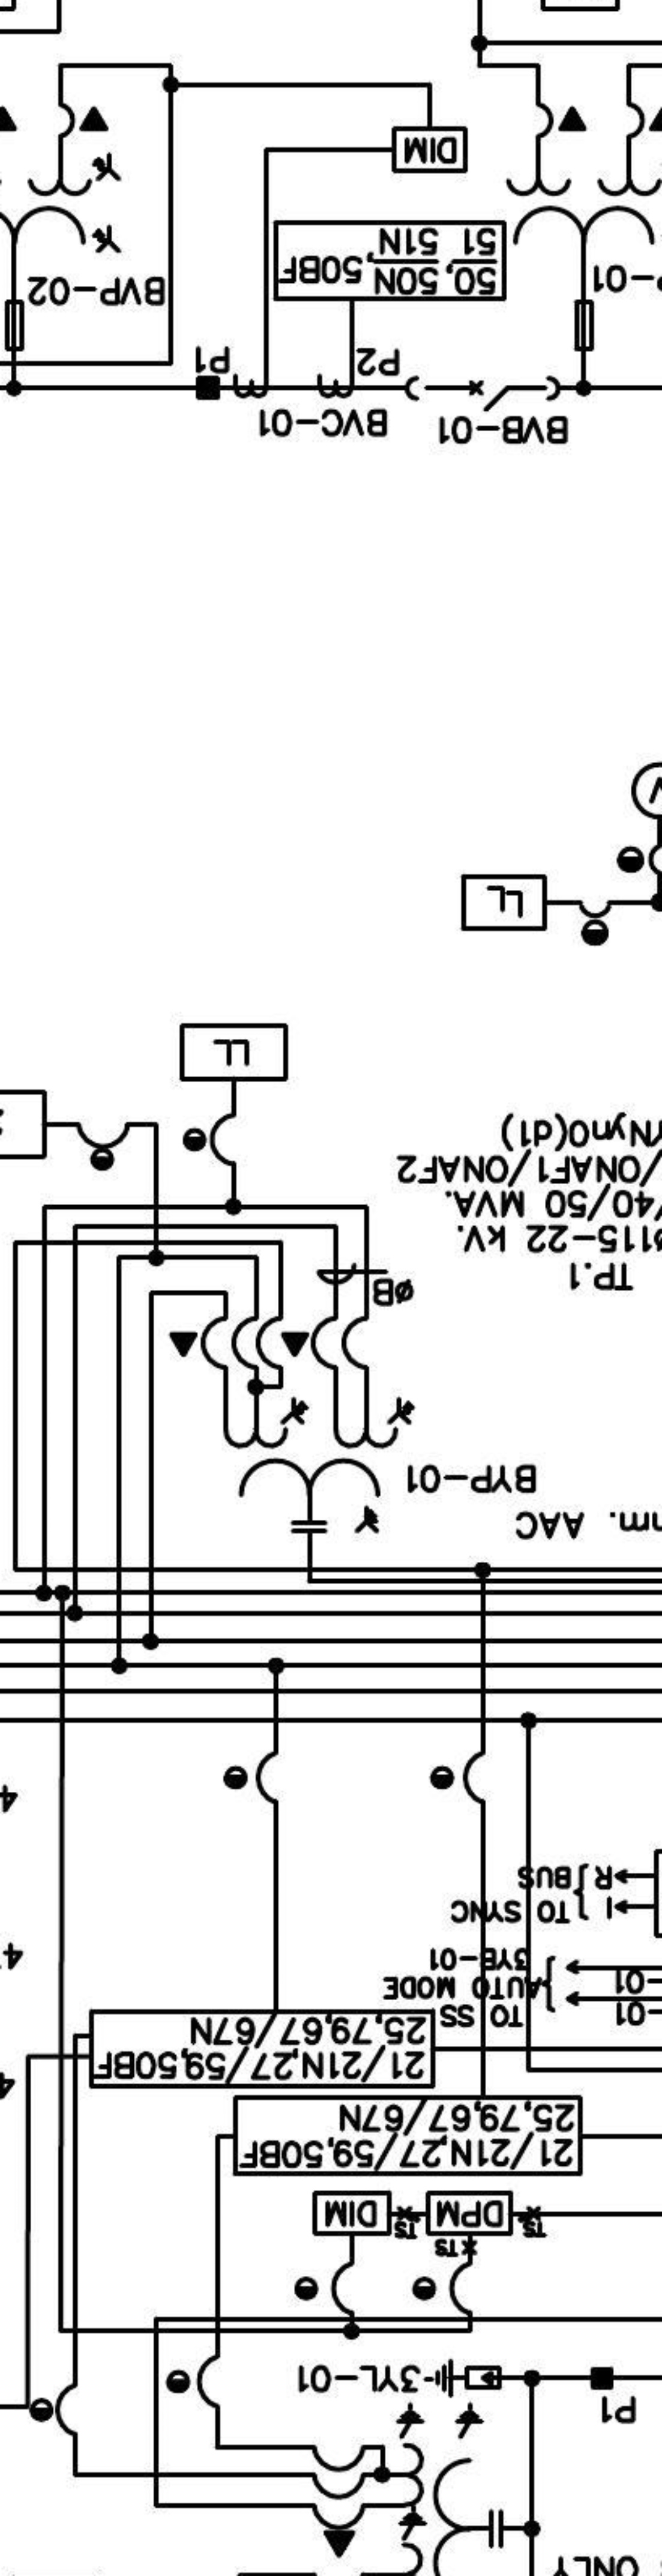115_cvt_3p: (222, 1395, 417, 1534)
115_la: (422, 2357, 503, 2400)
22_breaker: (404, 375, 562, 412)
DIM: (310, 2190, 391, 2238), (391, 126, 468, 174)
DPM: (424, 2190, 513, 2238)
LL: (179, 1022, 287, 1083), (460, 874, 547, 931)
